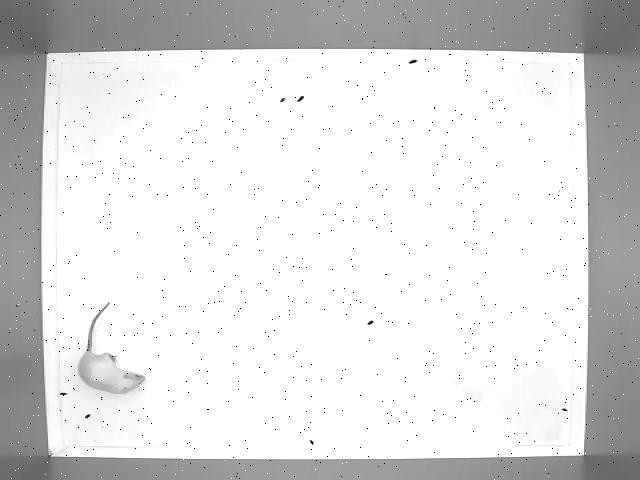Tikus: (75, 302, 149, 395)
